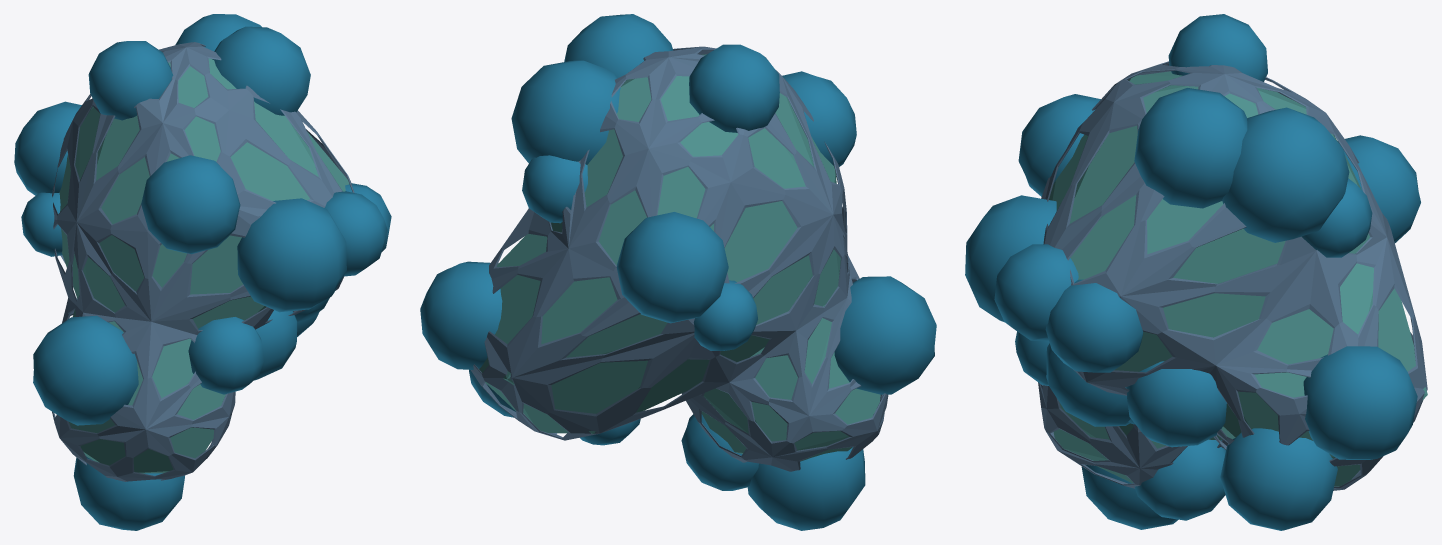
The model's file is glueBush14.fbx.
3 views of the same model, side by side, from view 1: azimuth 30°, elevation 25°; view 2: azimuth 150°, elevation 25°; view 3: azimuth 270°, elevation 25° (orthographic). The views are drawn at different scales.
Parts seen in each view (by area): view 1: Roundcube.012; view 2: Roundcube.012; view 3: Roundcube.012.
Boxes of the visible parts, bbox=[...] form: Roundcube.012: bbox=[14, 14, 391, 530]; Roundcube.012: bbox=[420, 14, 936, 530]; Roundcube.012: bbox=[965, 14, 1427, 530].
Bounding box in the file's own units: 256 × 310 × 249.
